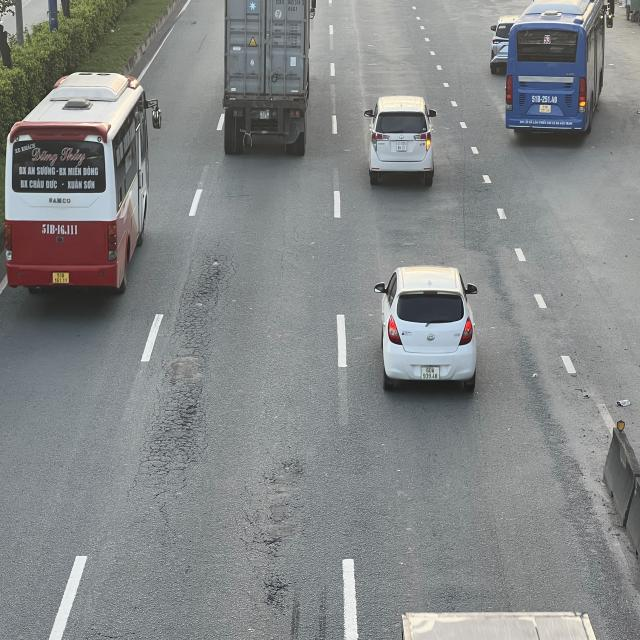car: (375, 265, 478, 394), (365, 95, 437, 184)
coach: (5, 72, 160, 296), (508, 2, 610, 138)
container: (224, 1, 316, 156)
